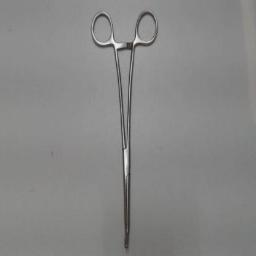Lahey Forceps: (88, 6, 160, 252)
